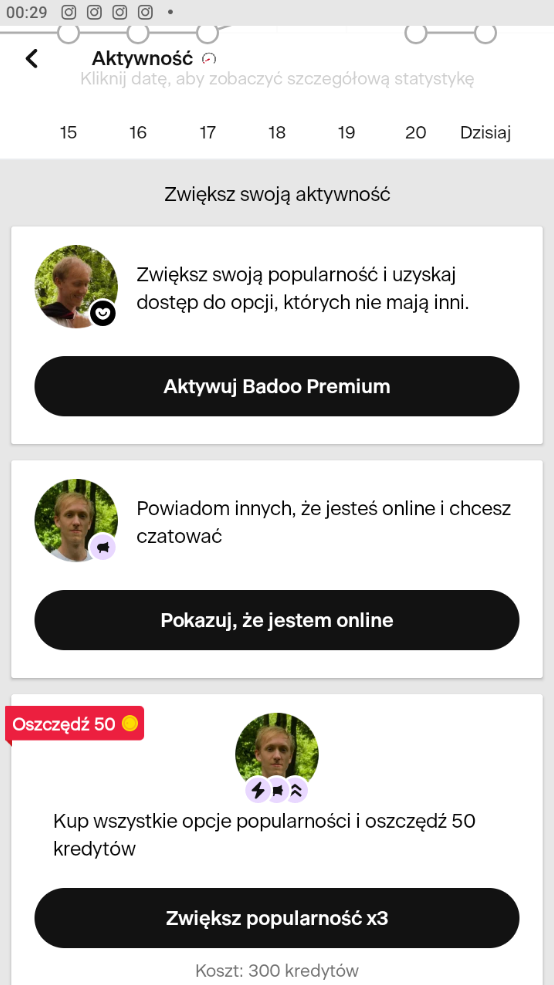kupno_button: (37, 350, 519, 417), (39, 586, 519, 650), (40, 883, 519, 946)
